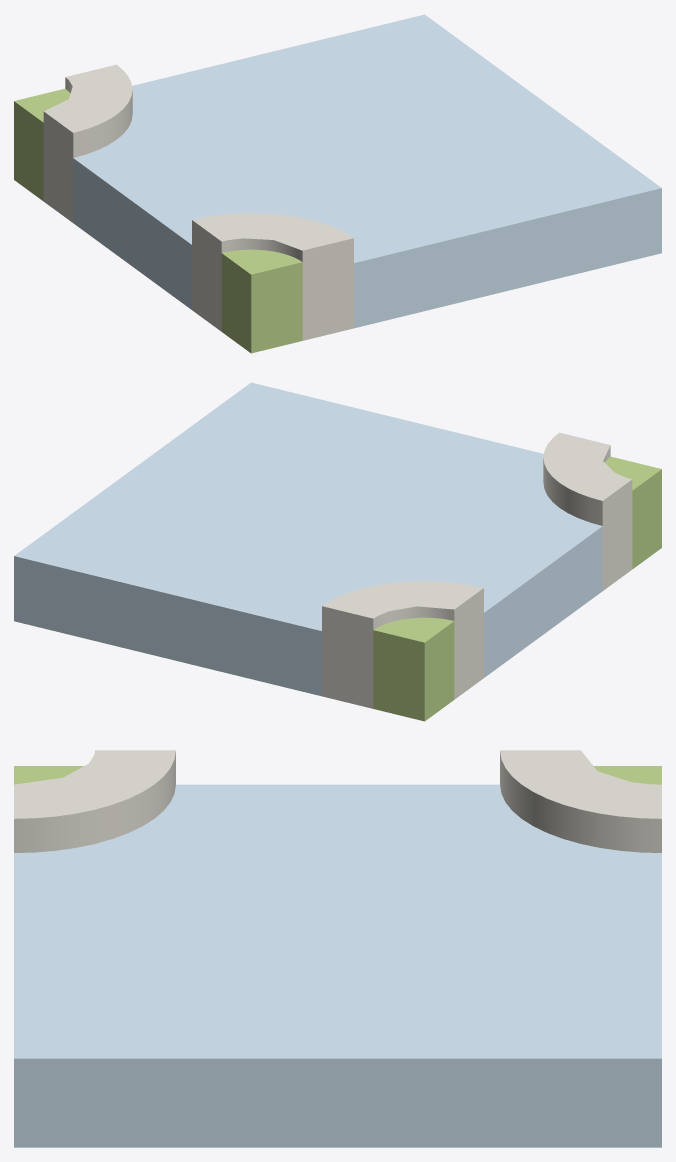
File: kenney-3d-road-tiles-roadtile-265.glb
3 views of the same model, one above another, from view 1: azimuth 30°, elevation 25°; view 2: azimuth 150°, elevation 25°; view 3: azimuth 270°, elevation 25° (orthographic). The views are drawn at different scales.
Parts seen in each view (by area): view 1: Mesh1 Group1 Model; view 2: Mesh1 Group1 Model; view 3: Mesh1 Group1 Model.
Part boxes in pixels (<box>): Mesh1 Group1 Model: <box>14,14,661,353</box>; Mesh1 Group1 Model: <box>14,382,661,721</box>; Mesh1 Group1 Model: <box>14,750,661,1147</box>.
Size of the model in its own units: 3 by 0.6299 by 3.
